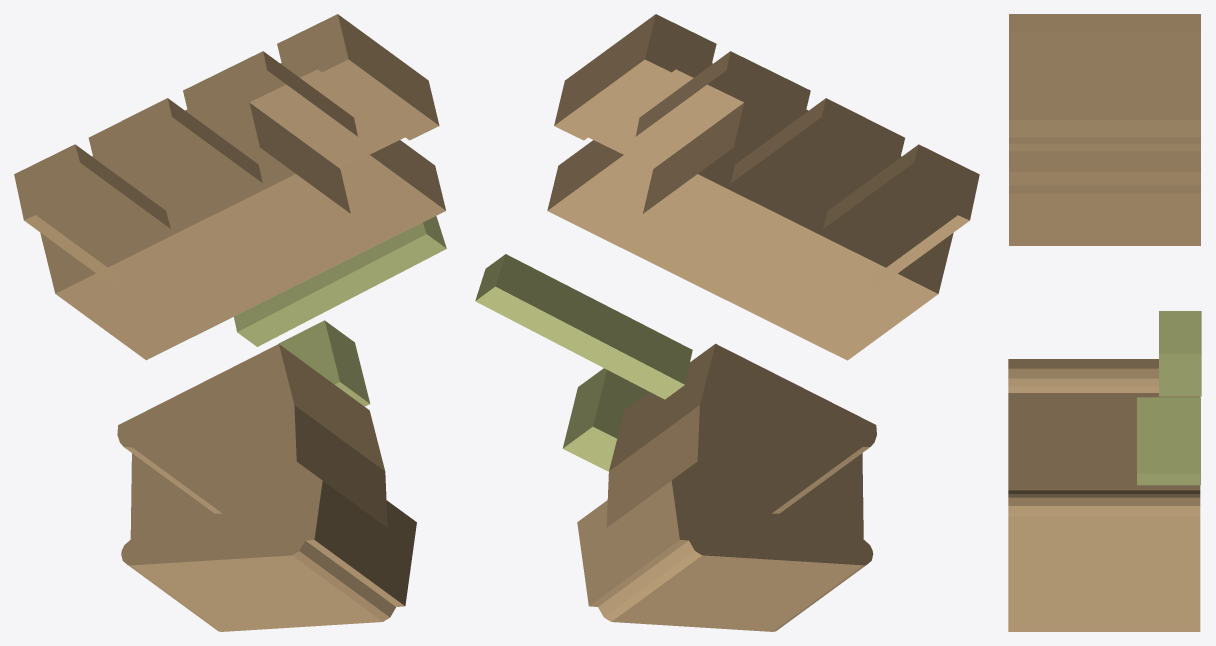
The picture shows the model from 3 angles, left to right: view 1: azimuth 30°, elevation 25°; view 2: azimuth 150°, elevation 25°; view 3: azimuth 270°, elevation 25°; orthographic projection. The views are drawn at different scales.
Visible parts, largest first — view 1: 0_1_0_0_0_1_1_1; view 2: 0_1_0_0_0_1_1_1; view 3: 0_1_0_0_0_1_1_1.
Boxes of the visible parts, x1,y1,x2,y2 form: 0_1_0_0_0_1_1_1: (14,14,446,631); 0_1_0_0_0_1_1_1: (475,14,979,631); 0_1_0_0_0_1_1_1: (1008,14,1201,631).
Bounding box in the file's own units: 70.8 × 86.83 × 27.2.
